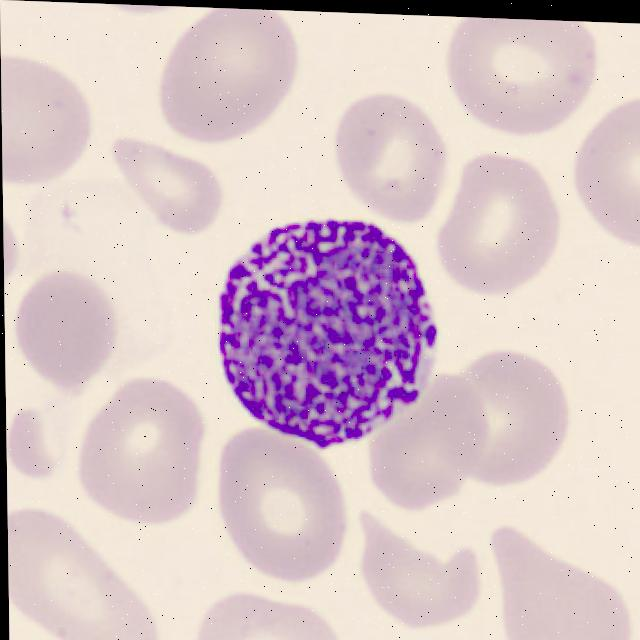basophil: (206, 214, 443, 450)
rbc: (70, 360, 214, 527), (203, 418, 345, 579), (7, 500, 167, 640), (351, 359, 490, 520), (159, 6, 320, 145), (427, 149, 568, 301), (440, 343, 579, 496), (445, 17, 609, 141), (474, 513, 631, 640), (348, 505, 481, 627), (330, 81, 450, 216), (88, 132, 230, 241), (10, 263, 122, 399), (1, 51, 95, 196), (565, 78, 640, 248), (182, 580, 348, 640), (6, 398, 60, 487), (3, 197, 30, 288), (82, 3, 187, 21)
